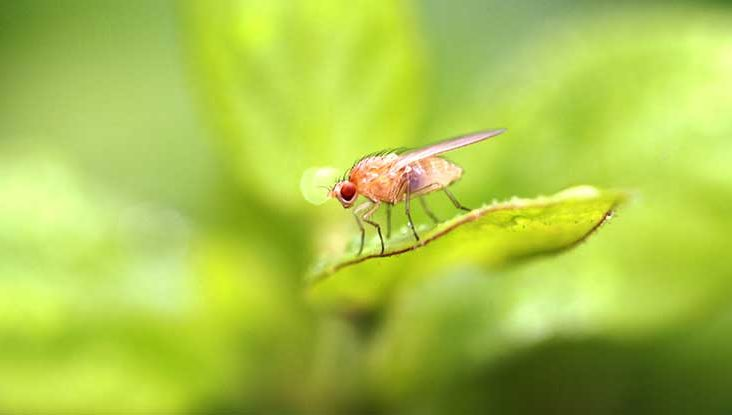insect: (328, 124, 507, 259)
